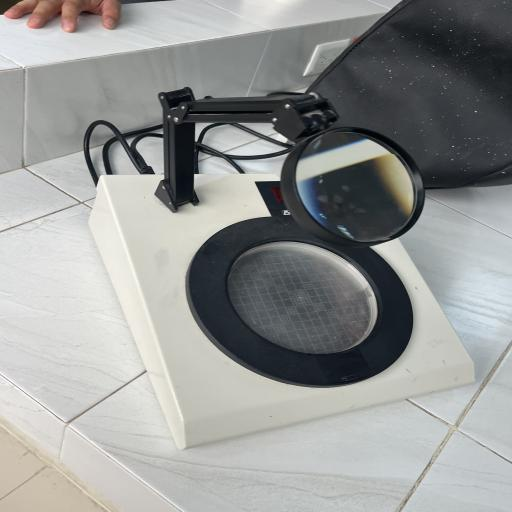Contador_Colonias_CC1: (85, 79, 481, 457)
